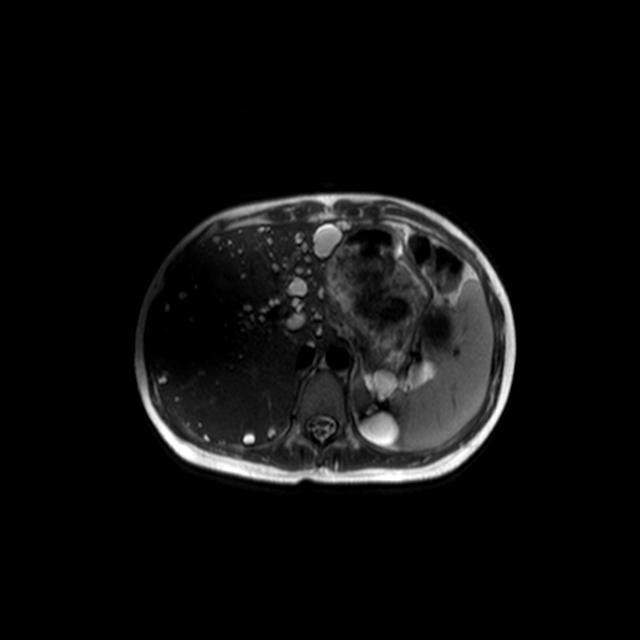sol: (352, 360, 438, 450)
